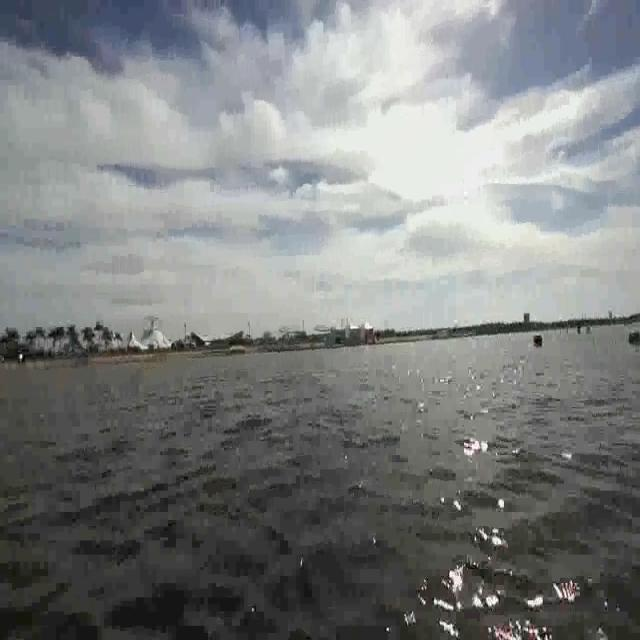black-buoy: (533, 330, 545, 350)
